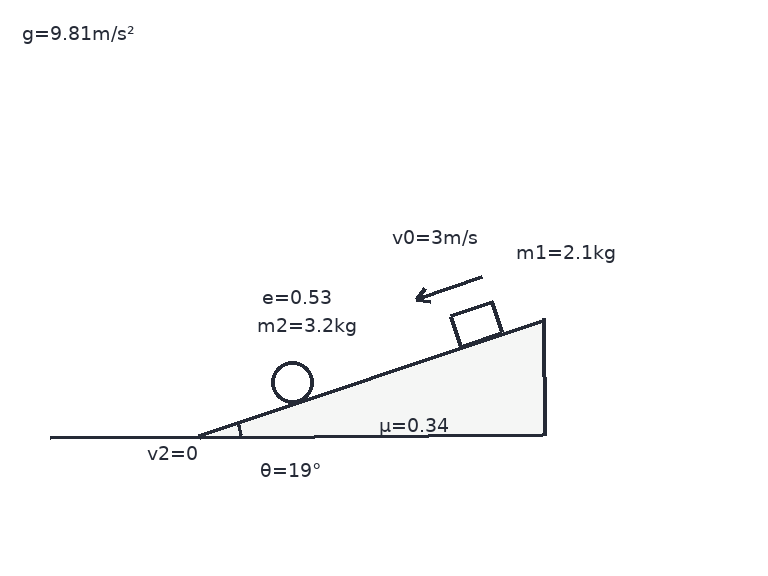ball: (269, 359, 315, 405)
block: (448, 299, 504, 348)
ramp: (198, 316, 544, 438)
